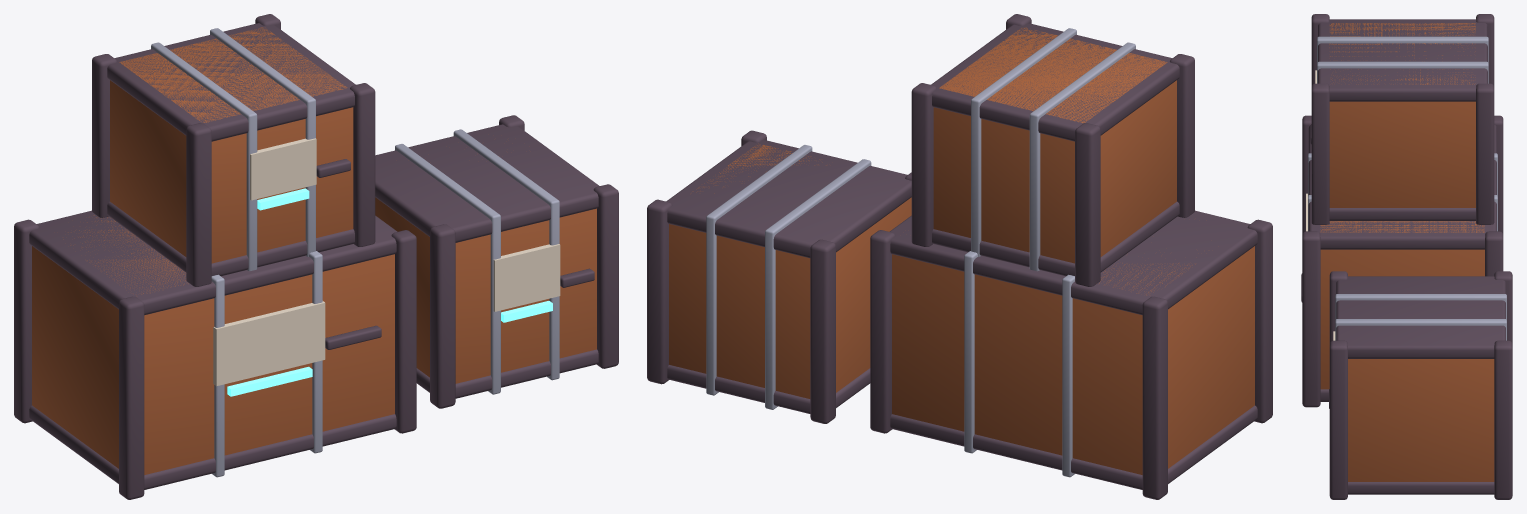
The model's file is crate_stack.glb.
3 views of the same model, side by side, from view 1: azimuth 30°, elevation 25°; view 2: azimuth 150°, elevation 25°; view 3: azimuth 270°, elevation 25° (orthographic). The views are drawn at different scales.
Parts seen in each view (by area): view 1: crate_stack; view 2: crate_stack; view 3: crate_stack.
Boxes of the visible parts, x1,y1,x2,y2 form: crate_stack: (14,14,618,499); crate_stack: (647,14,1272,499); crate_stack: (1301,14,1512,499).
Size of the model in its own units: 2.8 by 1.84 by 1.15.
